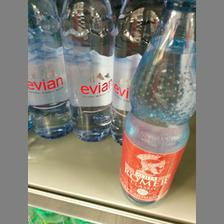Wasser: (119, 0, 195, 208), (56, 0, 112, 142), (27, 0, 71, 140)
